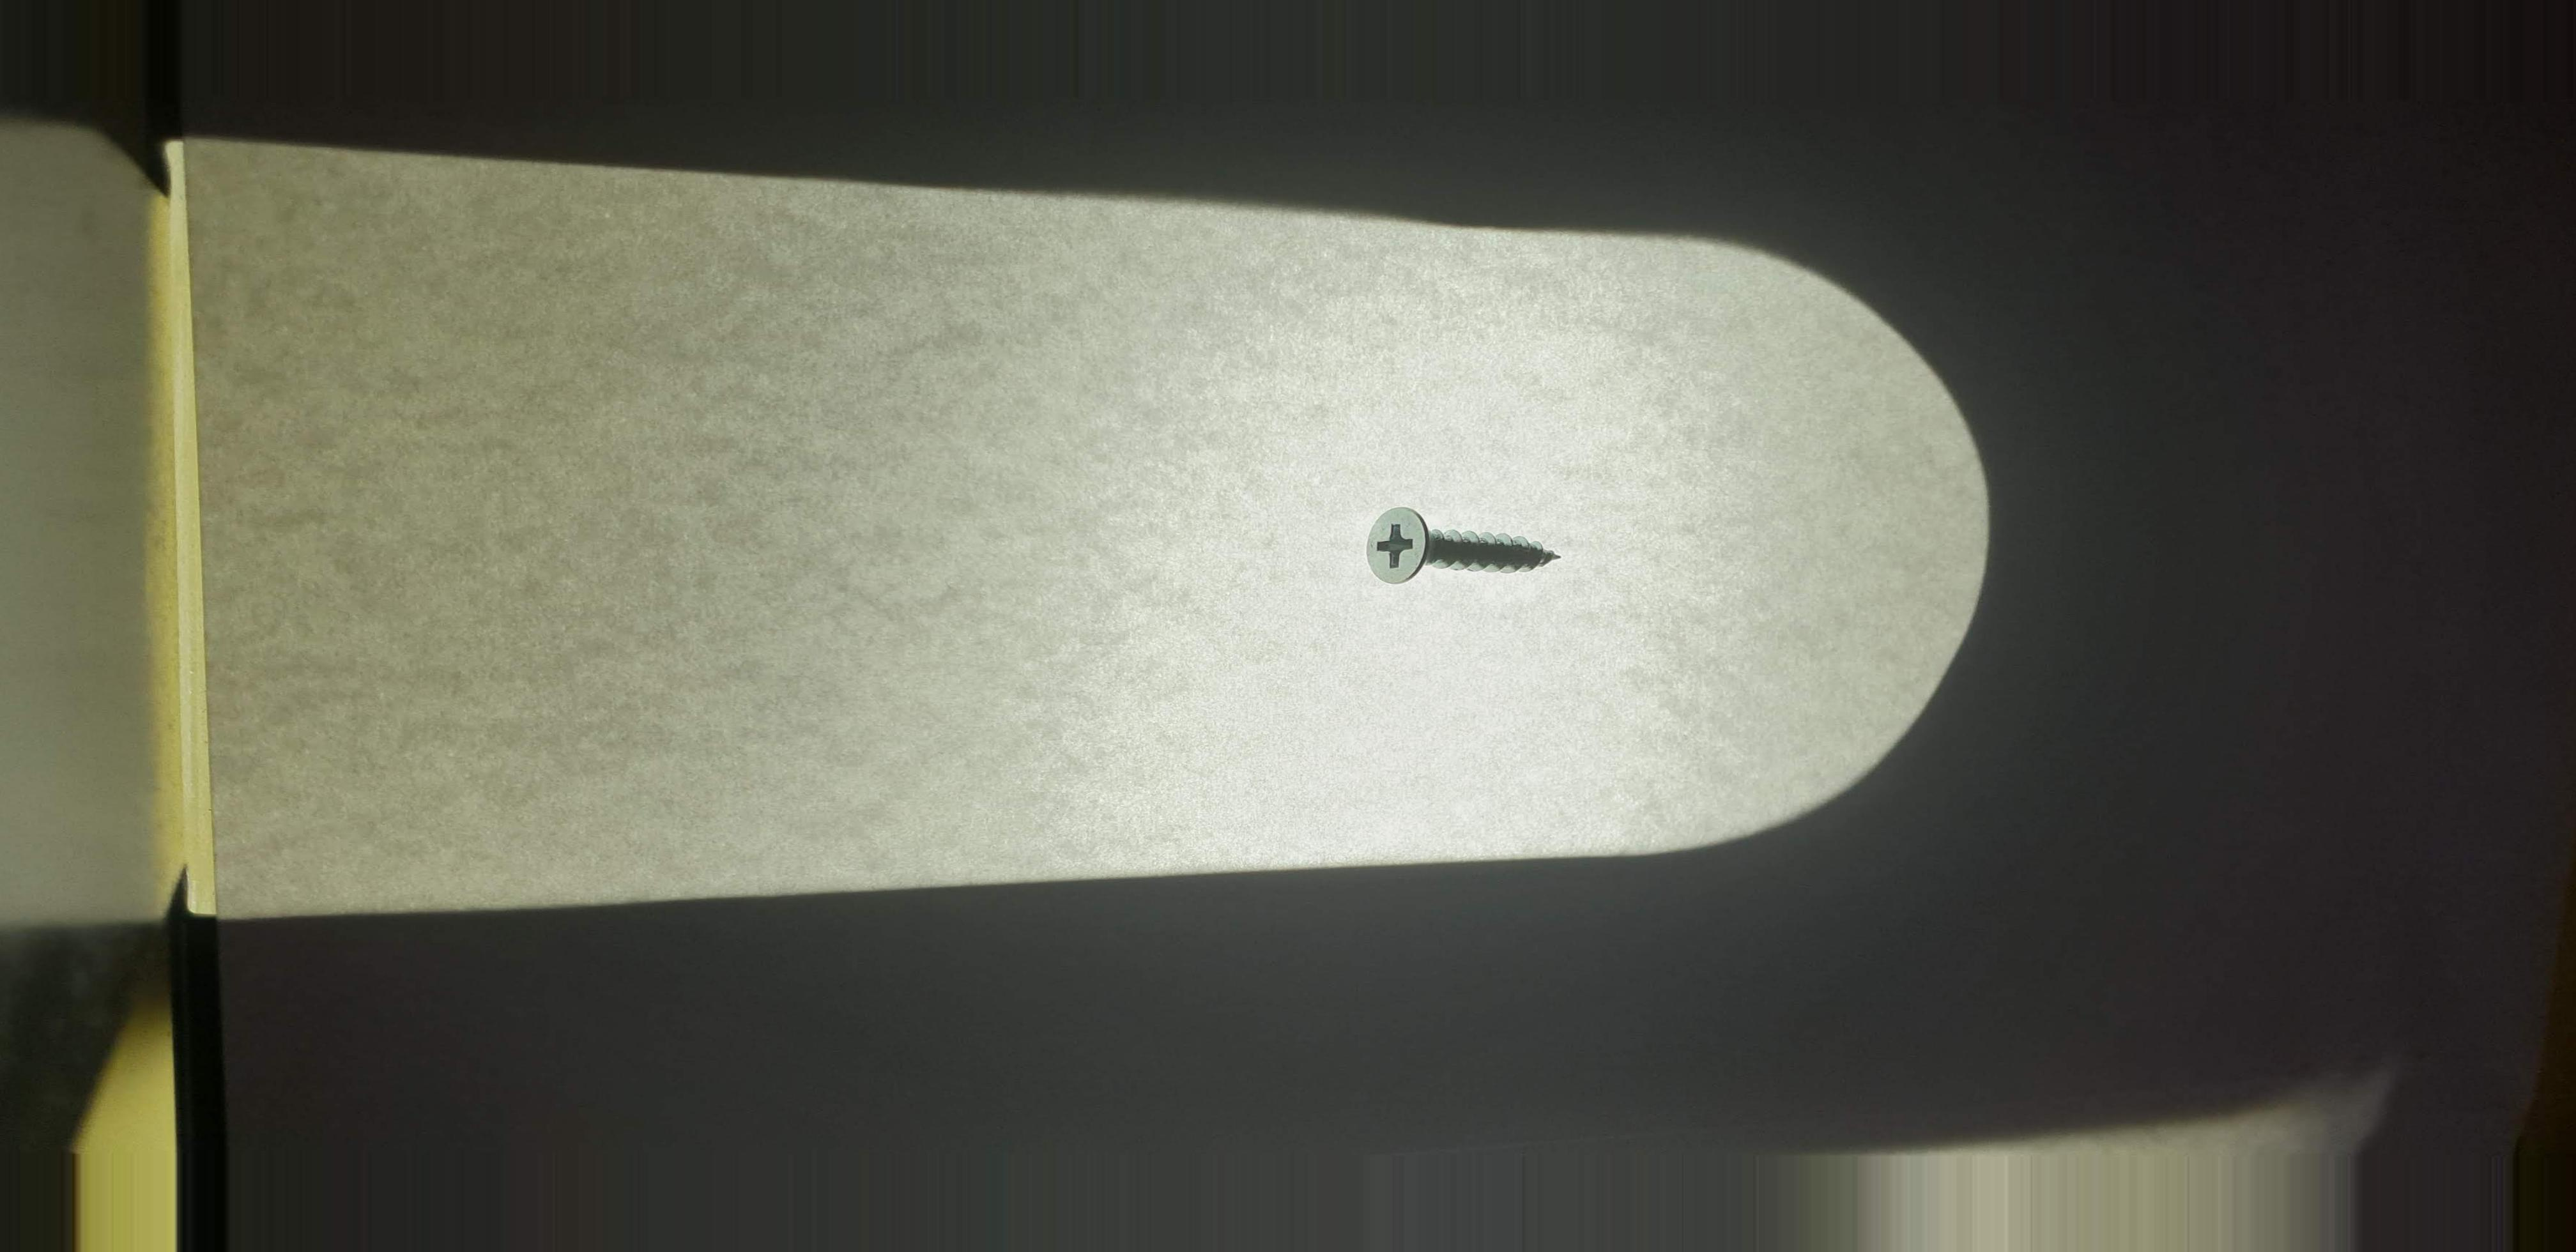S003: (1347, 488, 1603, 611)
